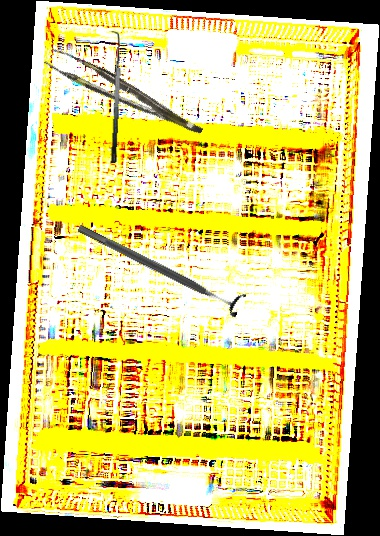Fixation Ring: (72, 214, 248, 320)
Spatula Surgical: (99, 30, 127, 164)
Tissue Forceps: (43, 38, 204, 154)
